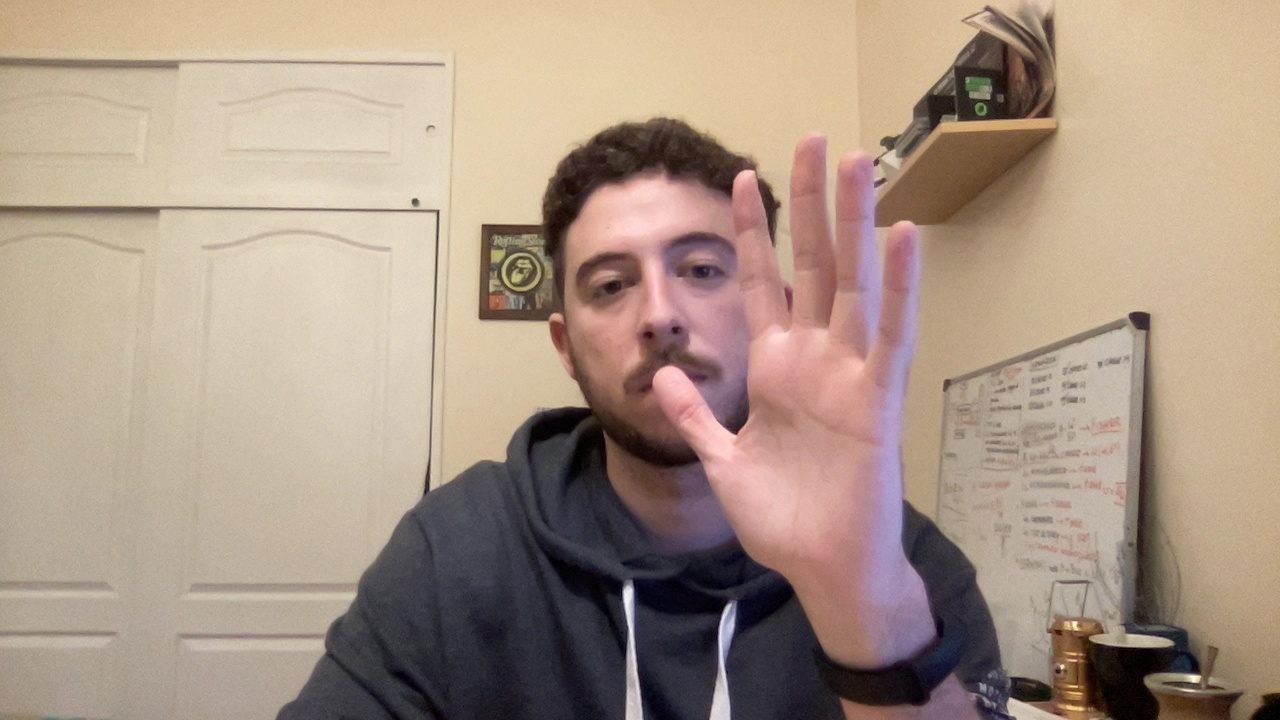abierto: (645, 129, 967, 566)
